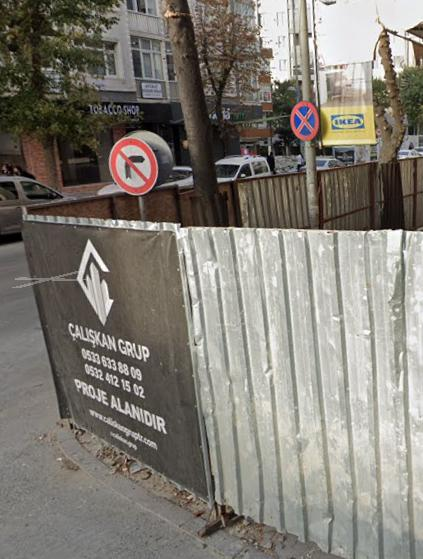rightturnsareforbidden: (112, 140, 159, 195)
